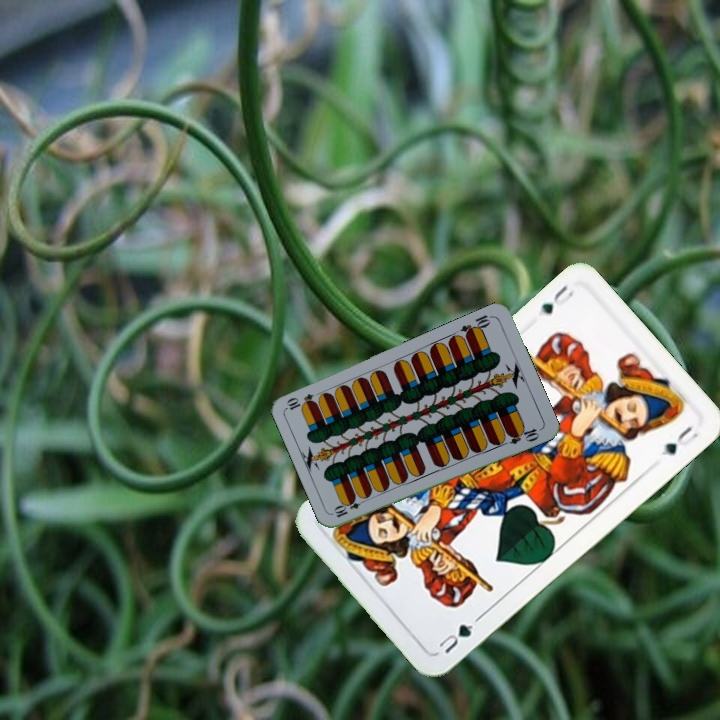E10: (457, 311, 495, 340), (330, 494, 369, 520)
GU: (432, 613, 483, 657), (537, 280, 578, 317)
